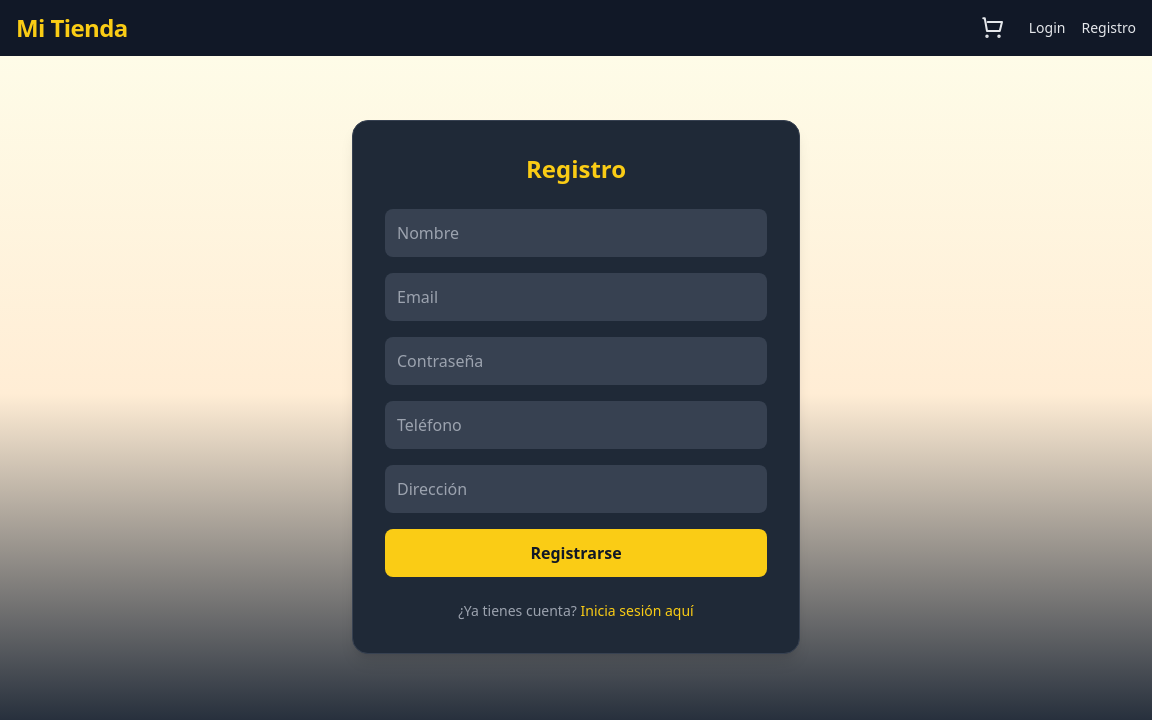
Scenario: links entre login y registro › desde register puedo ir a login
This screenshot has width=1152, height=720.
Click the link "Inicia sesión aquí".
click(638, 611)  # box left=581, top=601, right=694, bottom=620
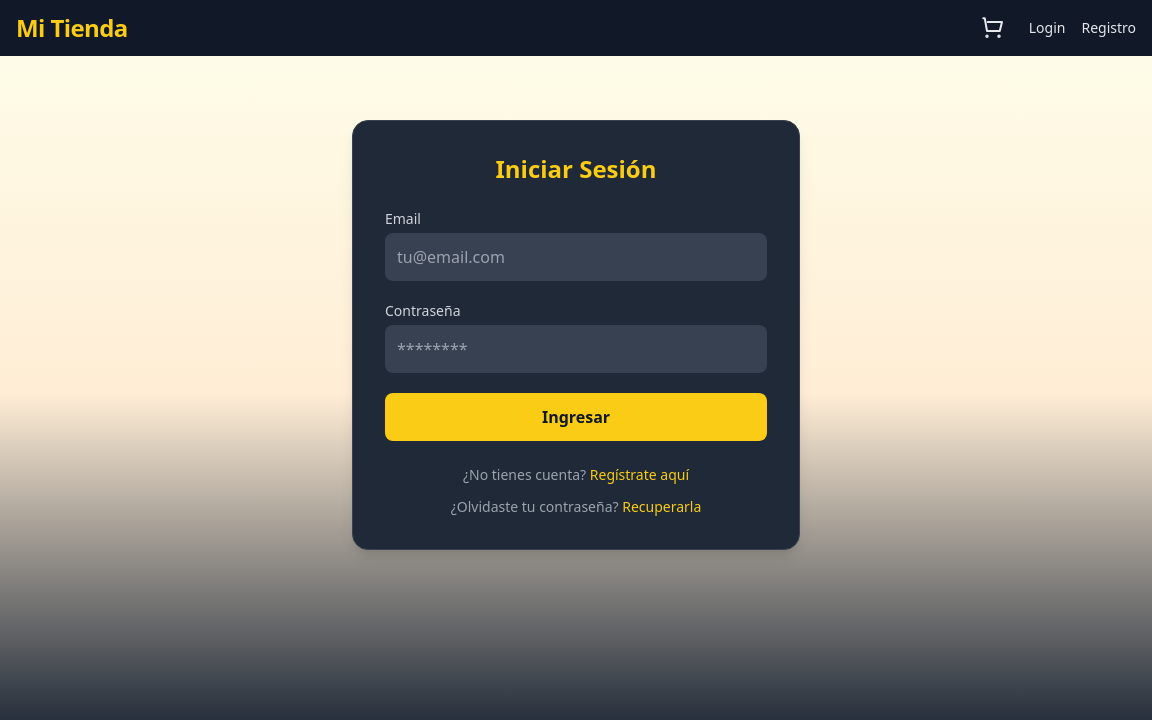
expect the button "Ingresar" is shown: met, box left=385, top=393, right=767, bottom=441
